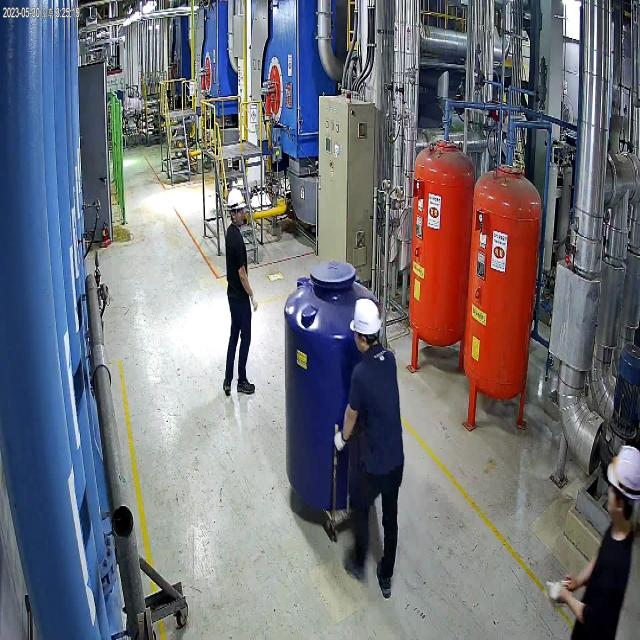Water Tank: (278, 246, 384, 532)
worker: (332, 294, 406, 610), (540, 431, 640, 640), (214, 179, 259, 409)
